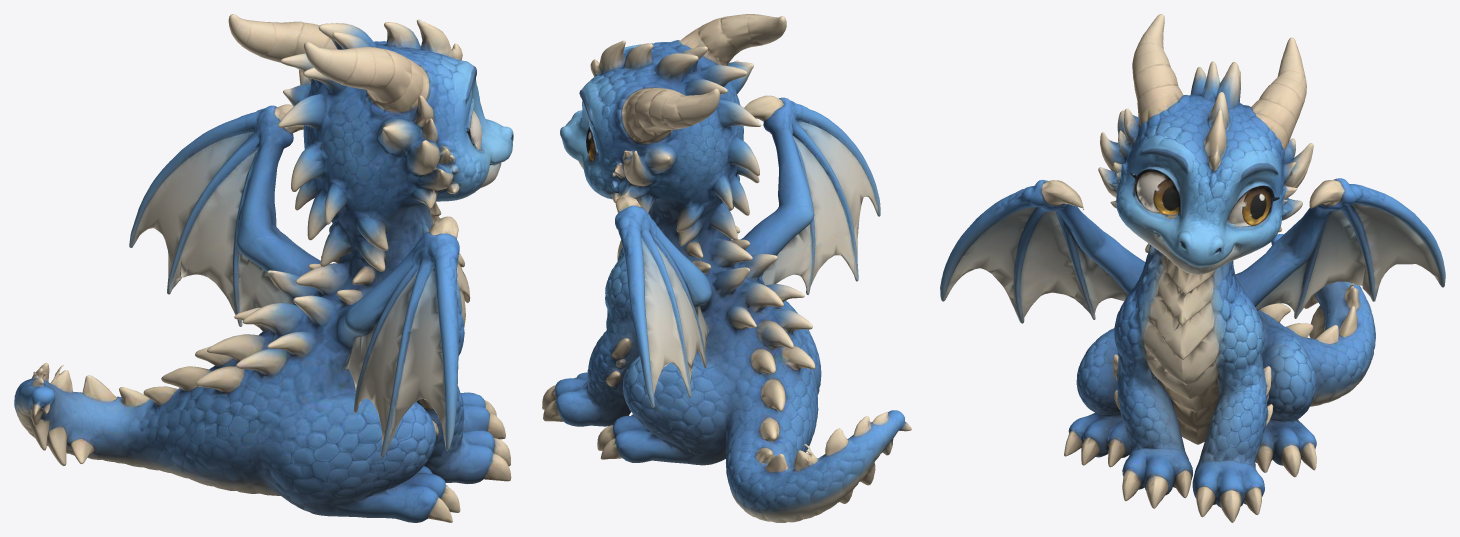
Rendered from comparison-tripo.glb.
3 views of the same model, side by side, from view 1: azimuth 30°, elevation 25°; view 2: azimuth 150°, elevation 25°; view 3: azimuth 270°, elevation 25° (orthographic). The views are drawn at different scales.
Parts seen in each view (by area): view 1: tripo_node_c8533a18-79a5-478c-88d7-452a83bcee0a; view 2: tripo_node_c8533a18-79a5-478c-88d7-452a83bcee0a; view 3: tripo_node_c8533a18-79a5-478c-88d7-452a83bcee0a.
Boxes of the visible parts, left/top/right/bottom form: tripo_node_c8533a18-79a5-478c-88d7-452a83bcee0a: left=14, top=14, right=513, bottom=522; tripo_node_c8533a18-79a5-478c-88d7-452a83bcee0a: left=542, top=14, right=911, bottom=522; tripo_node_c8533a18-79a5-478c-88d7-452a83bcee0a: left=940, top=14, right=1445, bottom=522.
Bounding box in the file's own units: 0.8783 × 0.9025 × 0.9997.
Materials: 1 (1 with a texture image).
